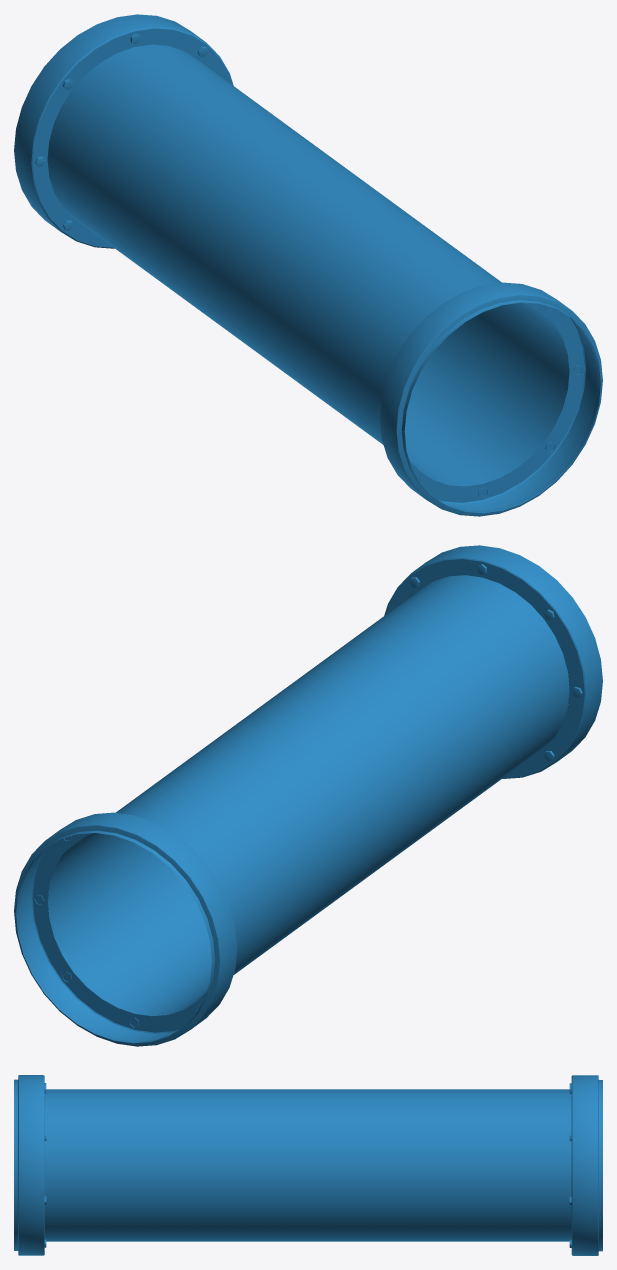
File: Sub_1Pipe_Pix.fbx
The picture shows the model from 3 angles, top to bottom: view 1: azimuth 30°, elevation 25°; view 2: azimuth 150°, elevation 25°; view 3: azimuth 270°, elevation 25°; orthographic projection. The views are drawn at different scales.
Parts seen in each view (by area): view 1: sub_1Pipe; view 2: sub_1Pipe; view 3: sub_1Pipe.
Boxes of the visible parts, <box> form: sub_1Pipe: <box>14,14,602,516</box>; sub_1Pipe: <box>14,545,602,1046</box>; sub_1Pipe: <box>14,1075,602,1255</box>.
Bounding box in the file's own units: 50.67 × 50.56 × 165.
